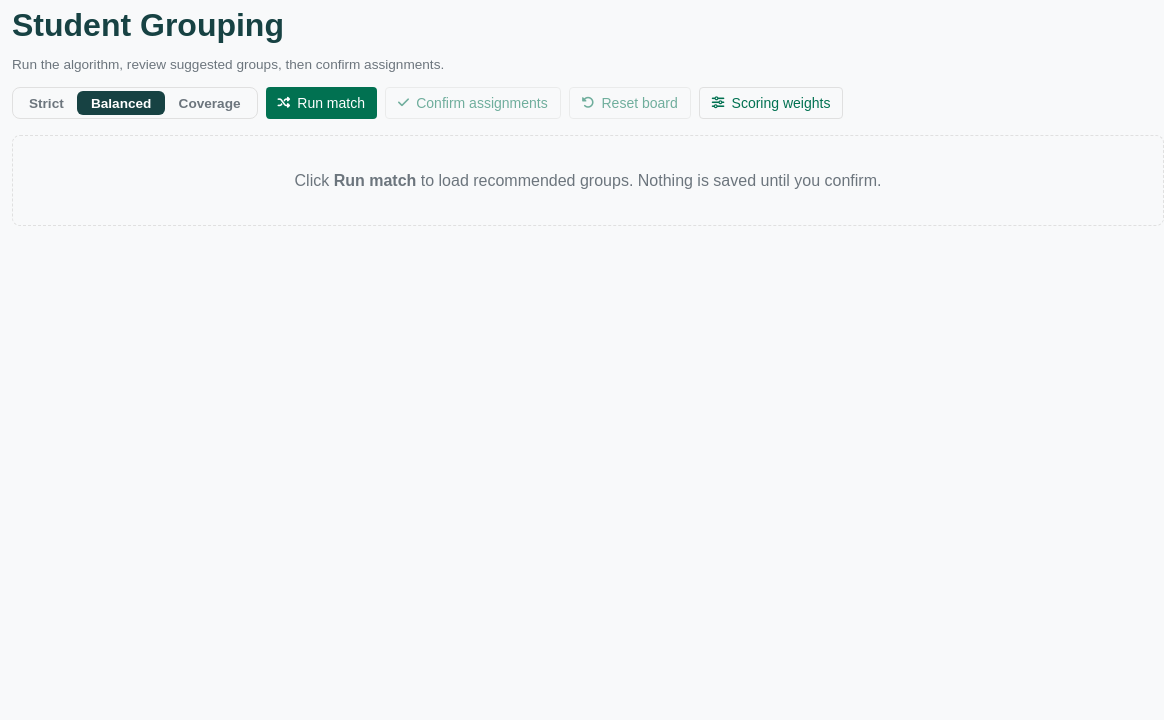
Test: StudentMatchingPanel › renders proposed groups and the waiting area after a run
Click the button "Run match" at (321, 103), box [266,87,377,119]
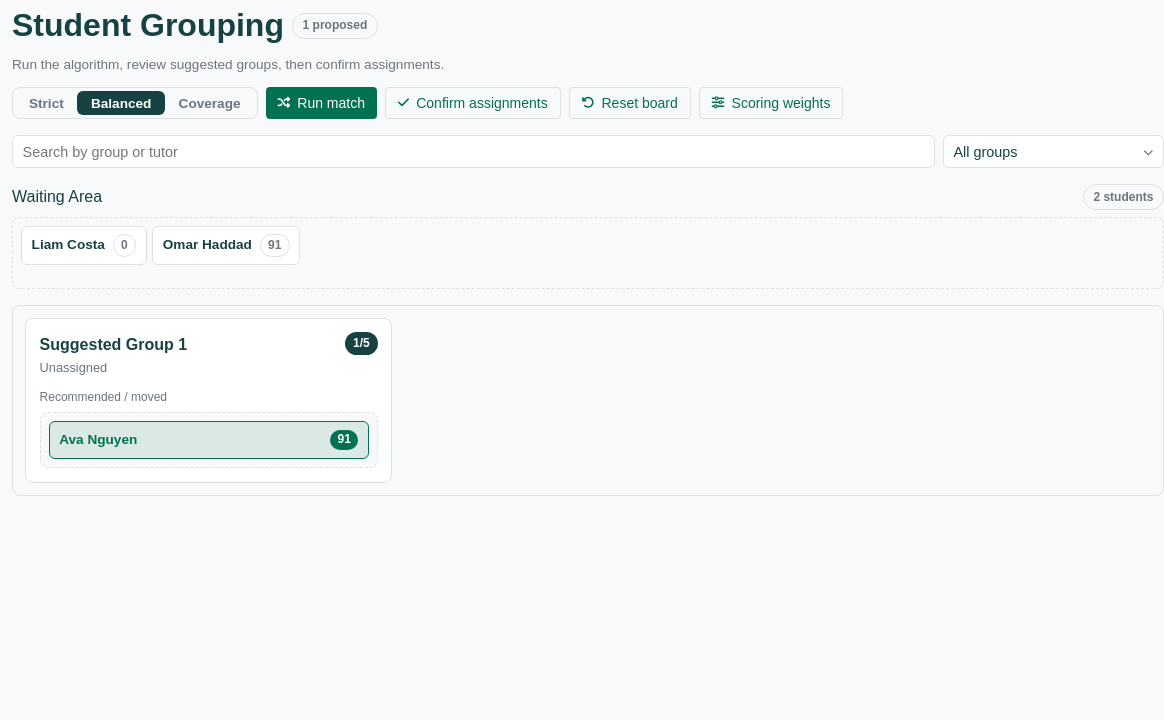
Expected: the text "Suggested Group 1" is shown, [40,332,187,358]
Expected: the text "Ava Nguyen" is shown, [59,429,137,451]
Expected: the text "Waiting Area" is shown, [12,184,102,210]
